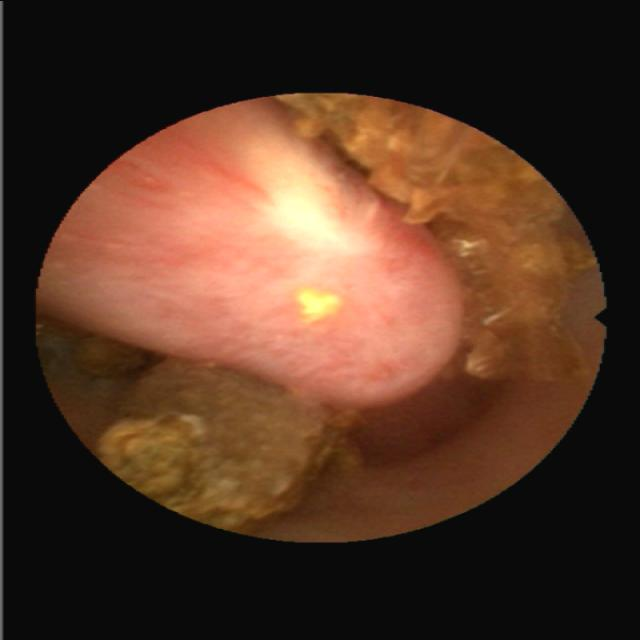stone: (288, 94, 592, 384), (42, 326, 361, 526), (297, 285, 342, 321)
tissue: (49, 103, 447, 397)
